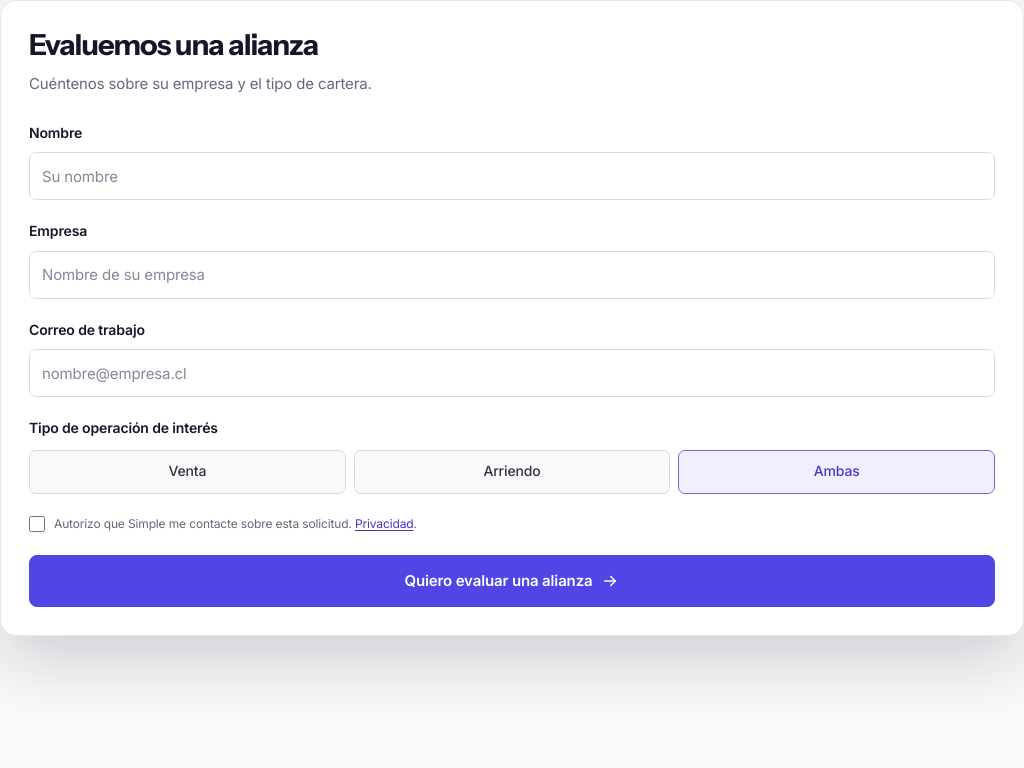
formulario de alianzas › muestra el error del servidor y permite corregir los campos
This screenshot has width=1024, height=768.
Type "Ana Pérez" into the field labelled "Nombre".
click(512, 176); type("Ana Pérez")  # box [29,152,995,200]
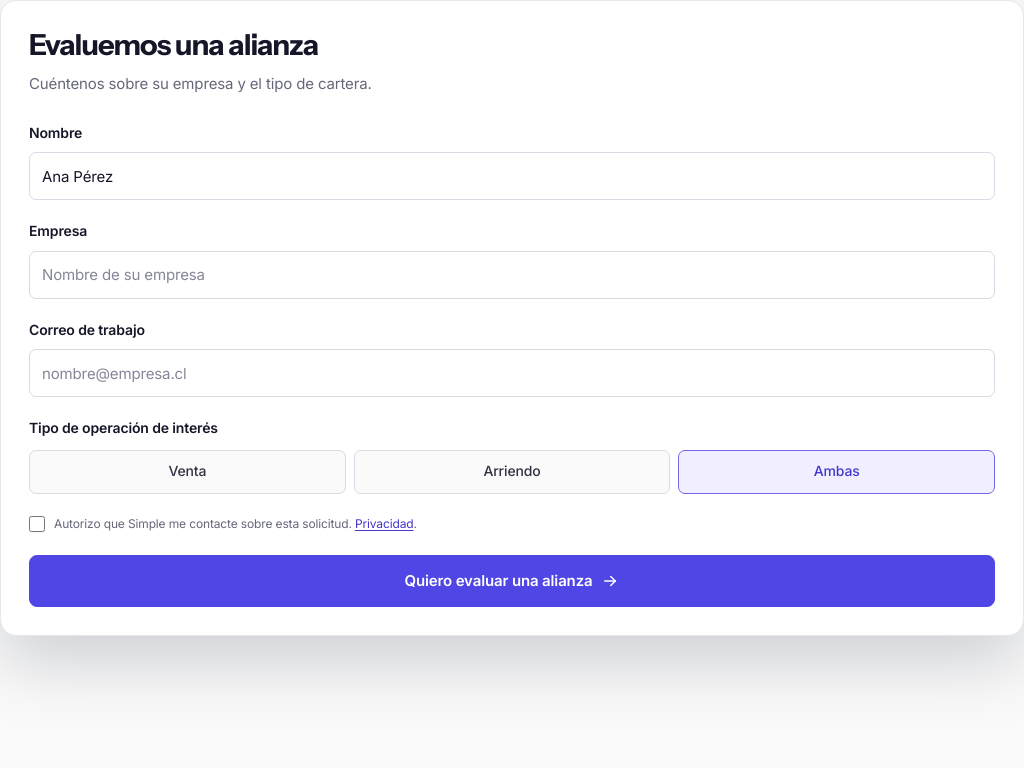
Type "Empresa de prueba" into the field labelled "Empresa".
click(512, 275); type("Empresa de prueba")  # box [29,251,995,299]
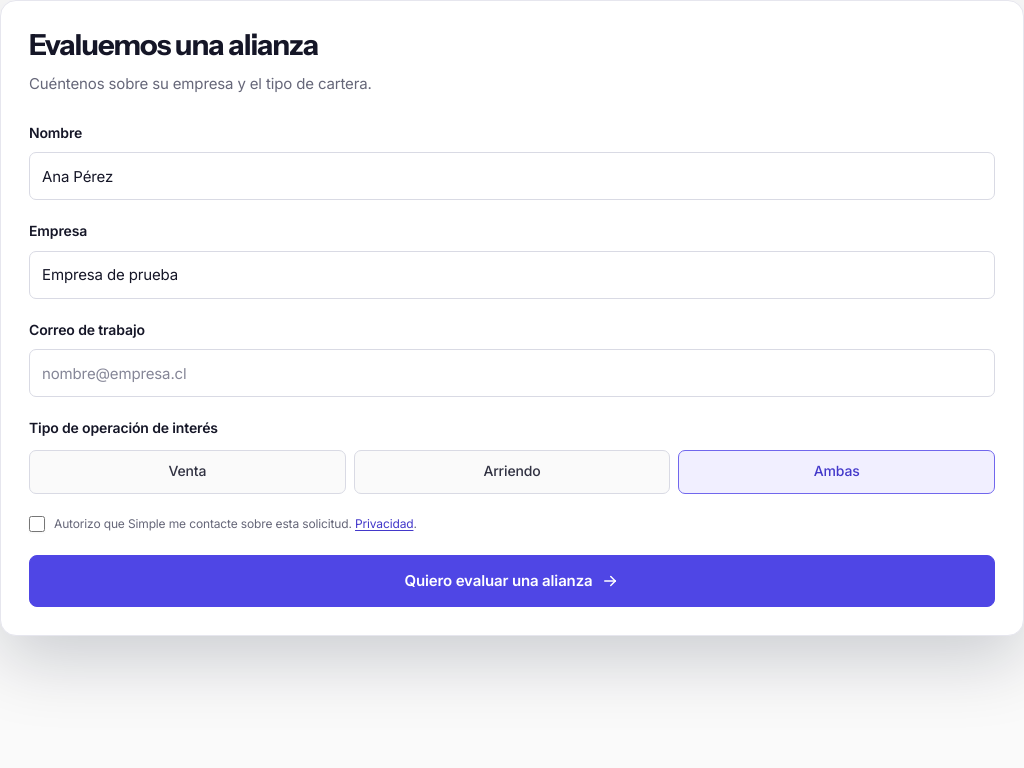
Type "ana@empresa.cl" into the field labelled "Correo de trabajo".
click(512, 373); type("ana@empresa.cl")  # box [29,349,995,397]
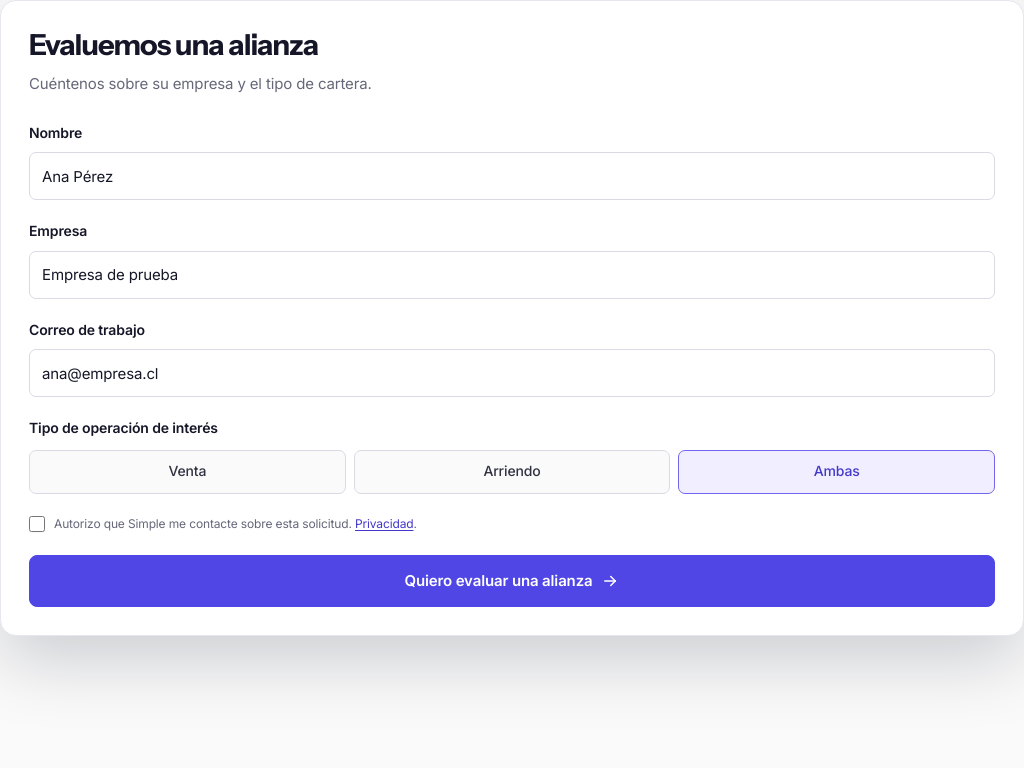
Click the checkbox.
click(37, 524)  # box [29,516,45,532]
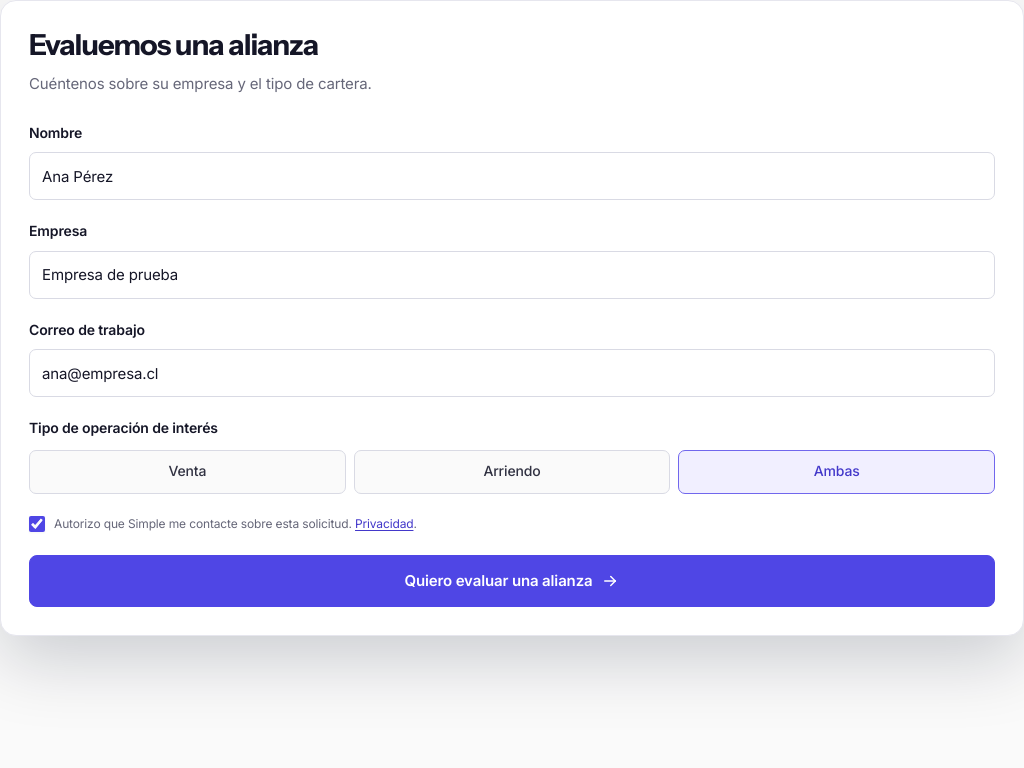
Submit the form, box [29,122,995,607]
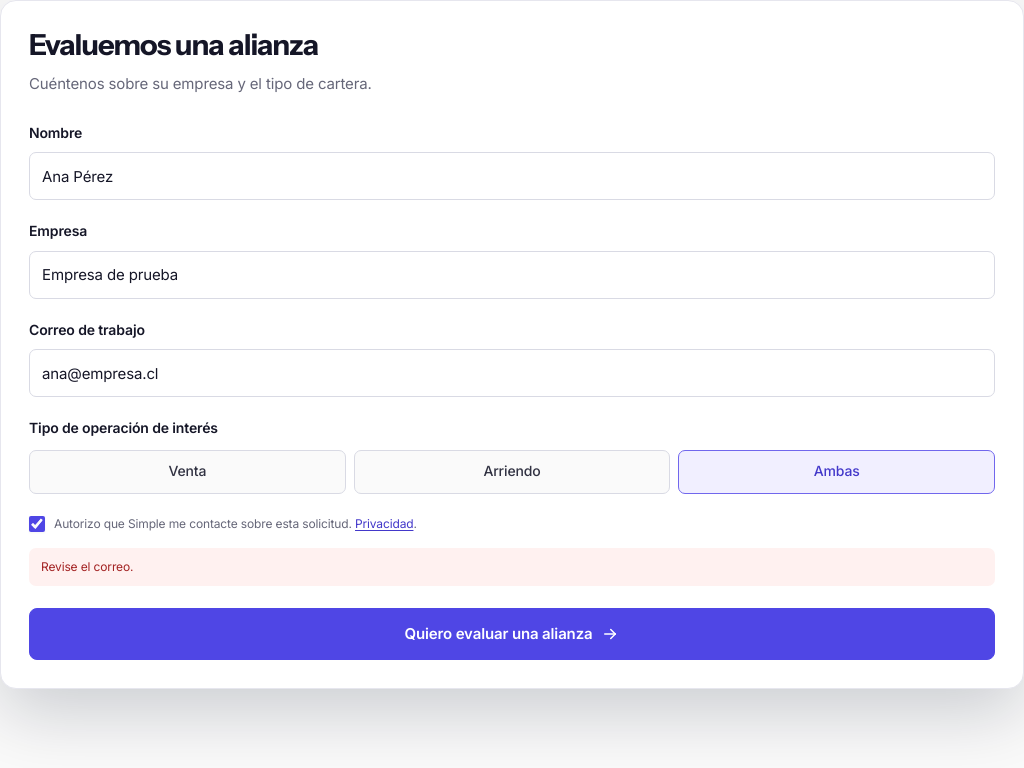
Expected: the text "Revise el correo." is shown, [29,548,995,586]
Replace the text in the field labelled "Correo de trabajo" with "otro@empresa.cl" at (512, 373), box [29,349,995,397]
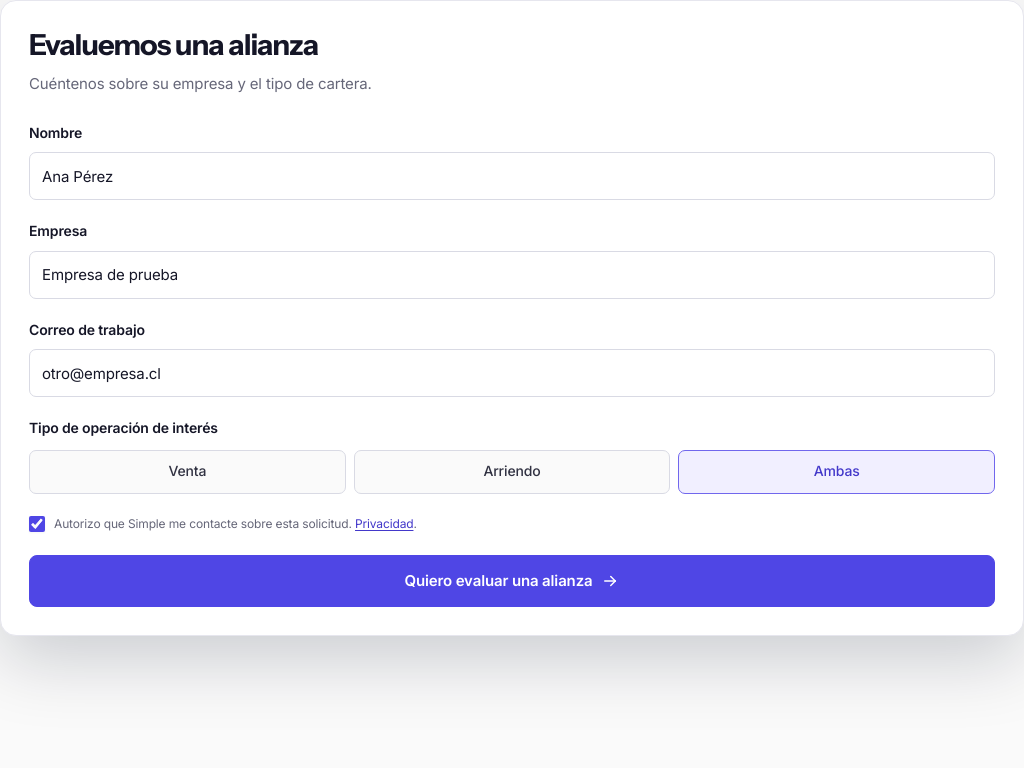
Expected: the message "Revise el correo." is gone
